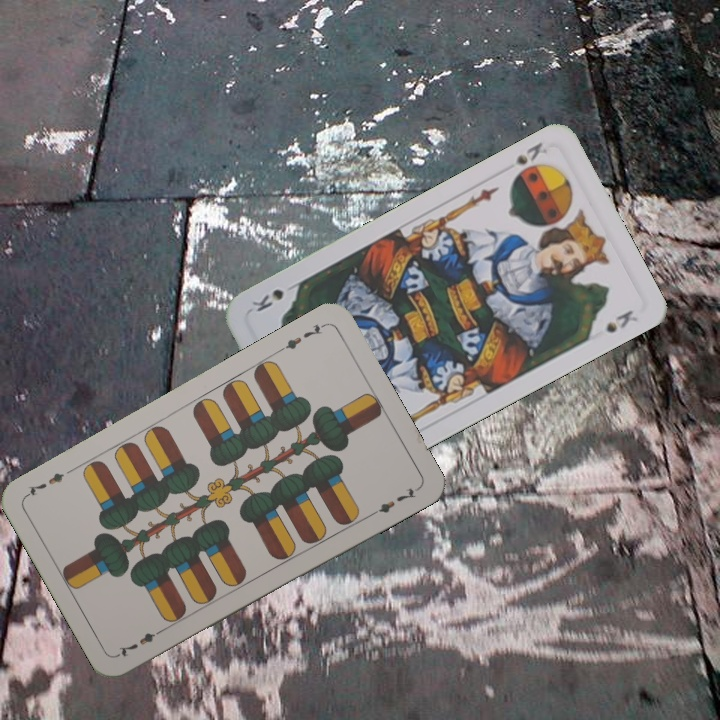E7: (274, 319, 328, 355), (114, 624, 168, 659)
SK: (510, 138, 554, 168)
